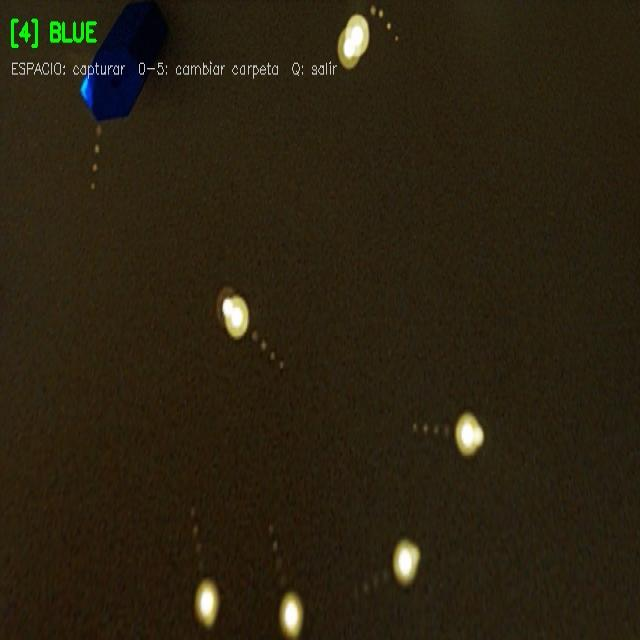blue: (80, 0, 166, 120)
